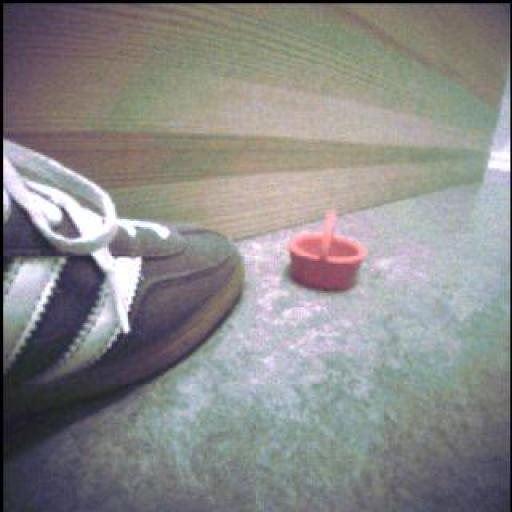Bucket: (291, 212, 368, 292)
